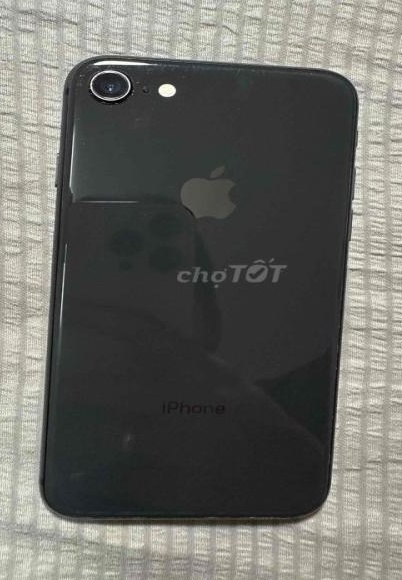scratch: (69, 57, 276, 103), (168, 504, 301, 524), (57, 229, 68, 389), (106, 432, 146, 453), (58, 463, 86, 479)
